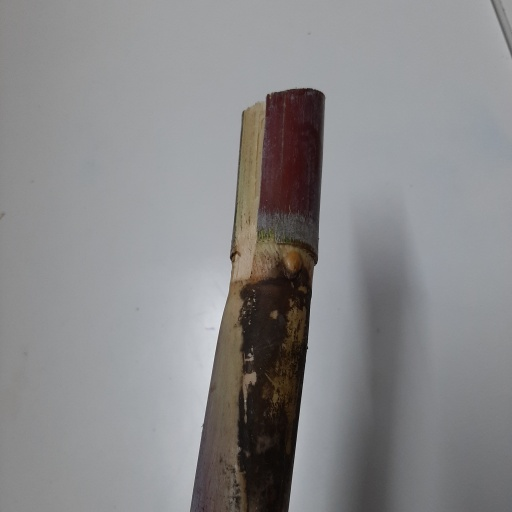Bud: (284, 252, 302, 276)
